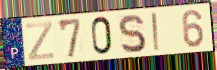0: (89, 15, 114, 57)
6: (181, 8, 205, 49)
7: (57, 18, 84, 60)
I: (150, 11, 162, 53)
S: (117, 13, 148, 55)
Z: (25, 21, 55, 62)
